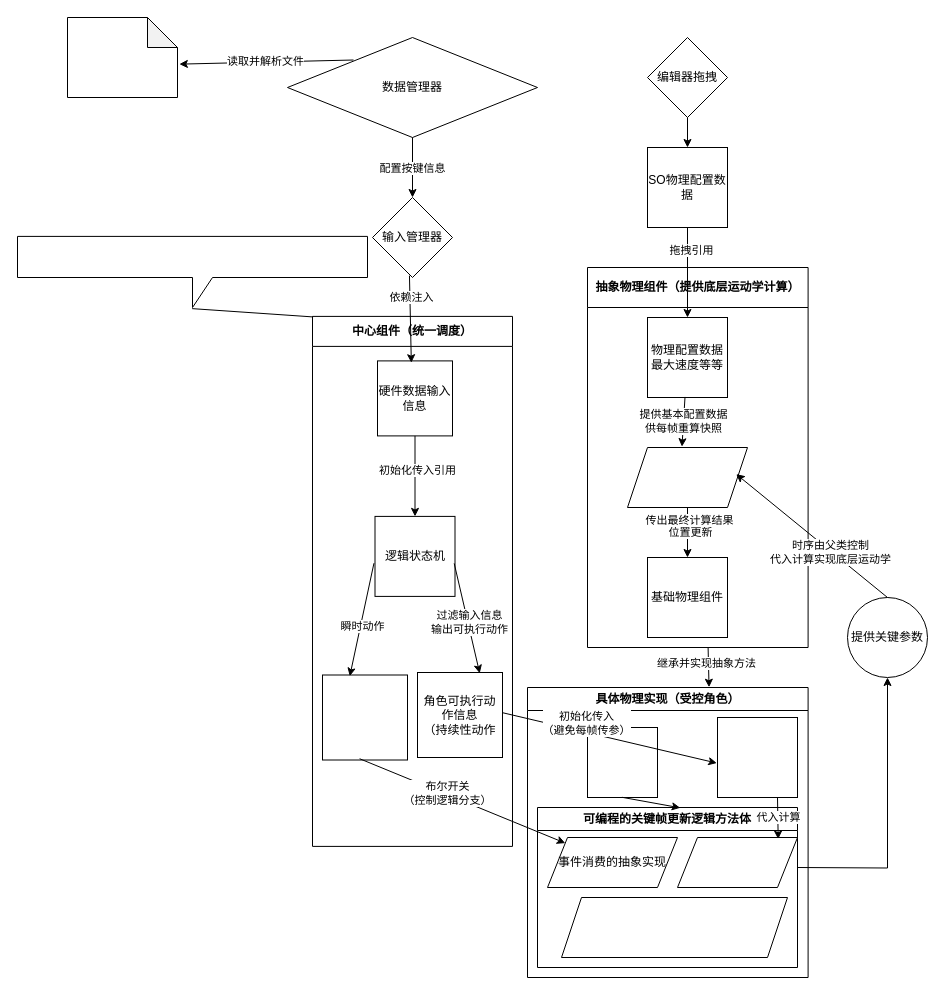
This 945x995 diagram has some shape labels left out. Each missing label, with the centre of its shape:
中心调度确保出初始化的正确时序，并以二阶初始化传递各组件的必要引用（一阶初始化保证数据结构存在避免空引用）: point 192,271
内部事件系统 （输出瞬发动作: point 365,717
内部具体 成员变量: point 622,762
本地持久化文件: point 122,57
物理更新循环: point 687,477
特殊垂直受控运动的抽象逻辑 （max函数赋值操作）: point 674,927
移动计算方法实现: point 737,862
角色可执行动作引用: point 757,757
